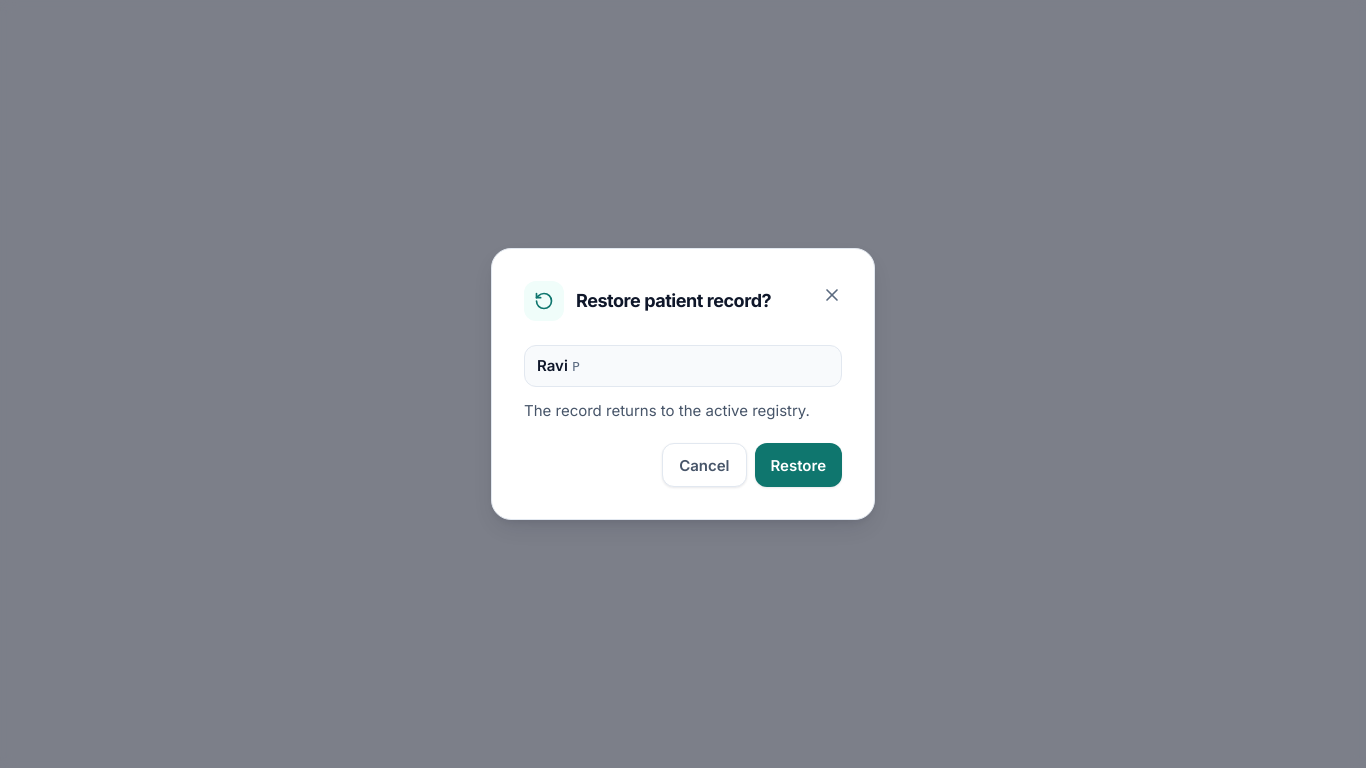
Test: ConfirmActionModal › shows the error and stays open when the action fails
The image size is (1366, 768).
Click the button "Restore".
click(798, 465)  # box x1=754 y1=443 x2=842 y2=487
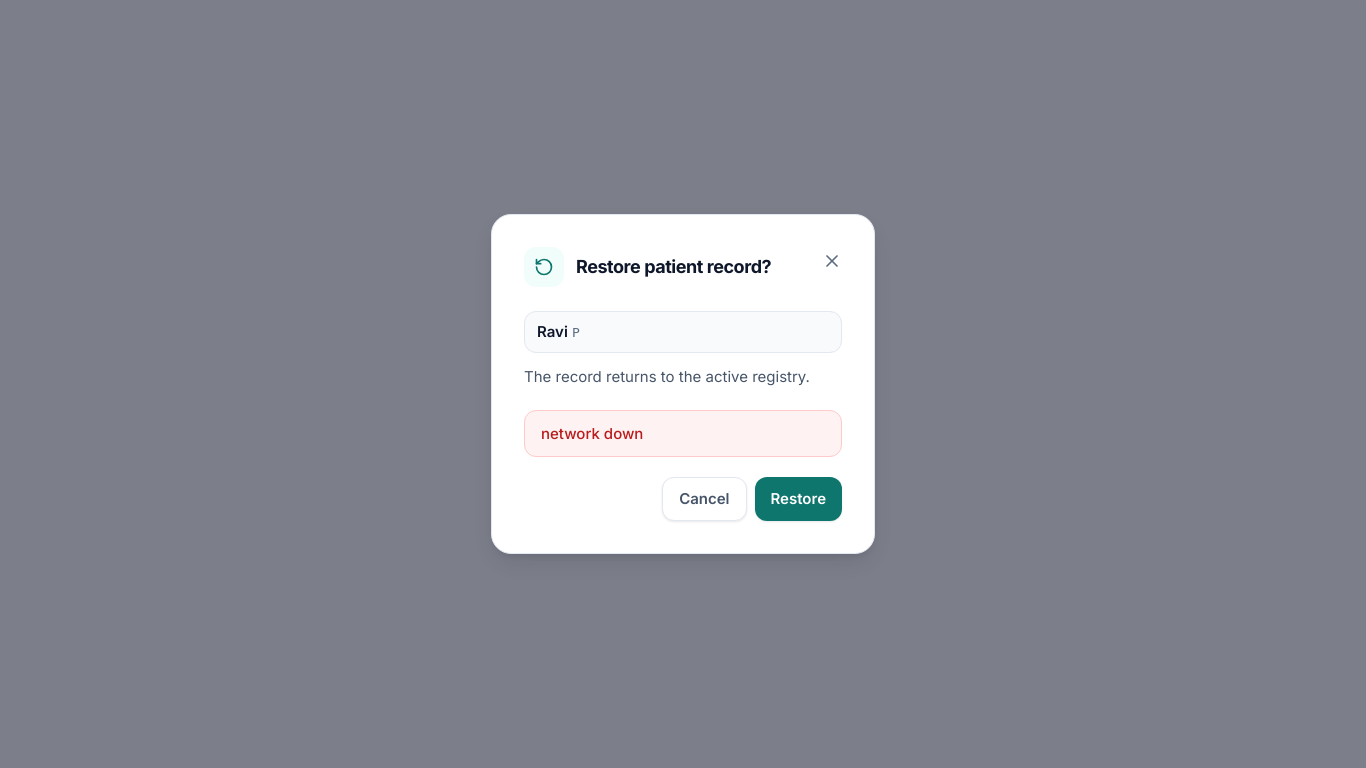
expect the message reads "network down": met, box x1=541 y1=424 x2=643 y2=443
